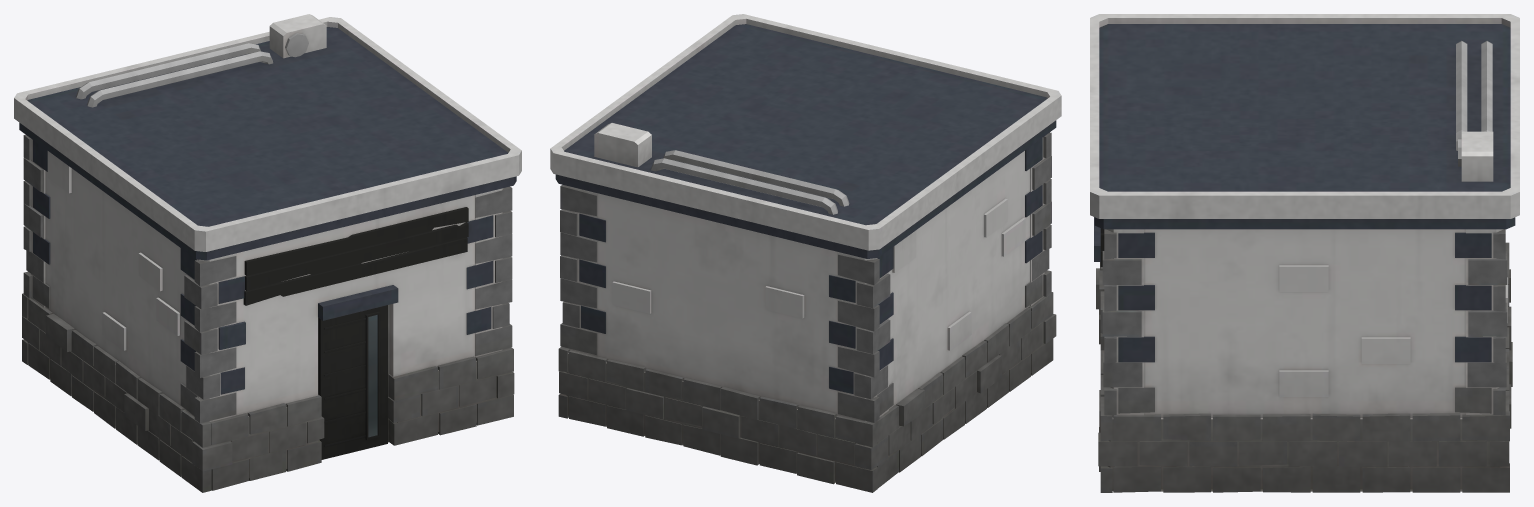
The model's file is 1Story_Sign.glb.
The picture shows the model from 3 angles, left to right: view 1: azimuth 30°, elevation 25°; view 2: azimuth 150°, elevation 25°; view 3: azimuth 270°, elevation 25°; orthographic projection. The views are drawn at different scales.
Visible parts, largest first — view 1: 1Story_Sign_high; view 2: 1Story_Sign_high; view 3: 1Story_Sign_high.
Boxes of the visible parts, bbox=[...] form: 1Story_Sign_high: bbox=[14, 14, 521, 492]; 1Story_Sign_high: bbox=[550, 14, 1061, 492]; 1Story_Sign_high: bbox=[1090, 14, 1519, 492].
Size of the model in its own units: 2.15 by 1.79 by 2.15.
2 materials, 2 textured.
